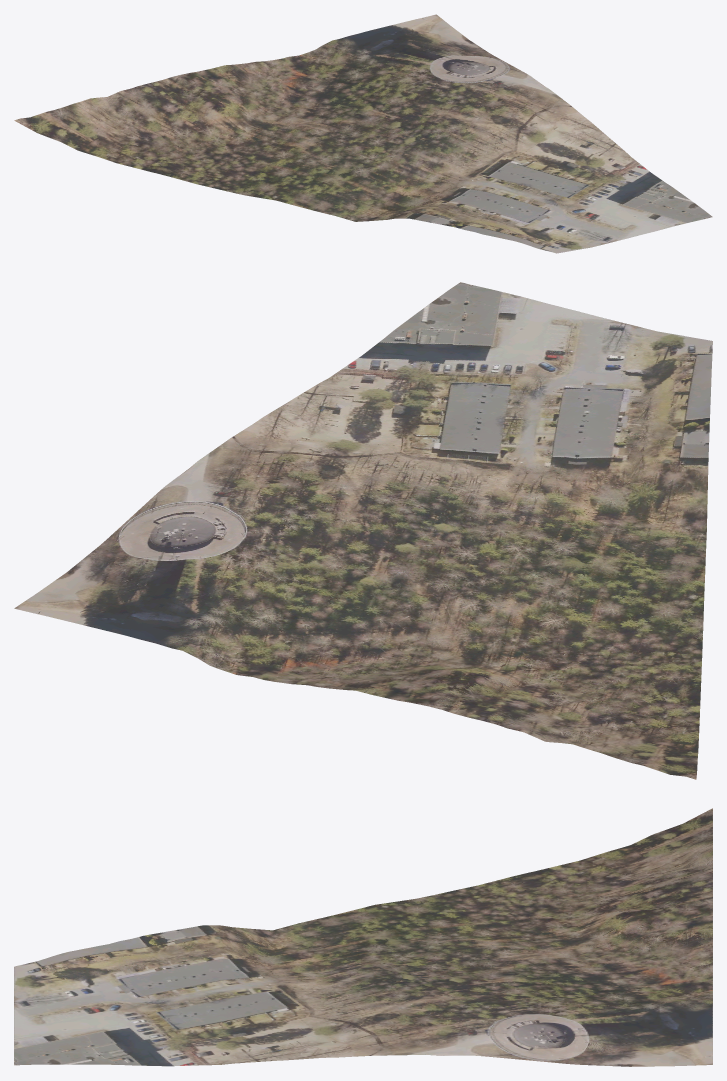
The model's file is CM_Terrain_24490868_6815903.fbx.
3 views of the same model, one above another, from view 1: azimuth 30°, elevation 25°; view 2: azimuth 150°, elevation 25°; view 3: azimuth 270°, elevation 25° (orthographic). The views are drawn at different scales.
Visible parts, largest first — view 1: CM_Terrain_24490868_6815903_LOD0; view 2: CM_Terrain_24490868_6815903_LOD0; view 3: CM_Terrain_24490868_6815903_LOD0.
Part boxes in pixels (bbox=[...]): CM_Terrain_24490868_6815903_LOD0: bbox=[14, 14, 712, 253]; CM_Terrain_24490868_6815903_LOD0: bbox=[14, 282, 712, 779]; CM_Terrain_24490868_6815903_LOD0: bbox=[14, 808, 712, 1066].
Size of what is drawn, in the model's own units: 181 by 12.15 by 205.
